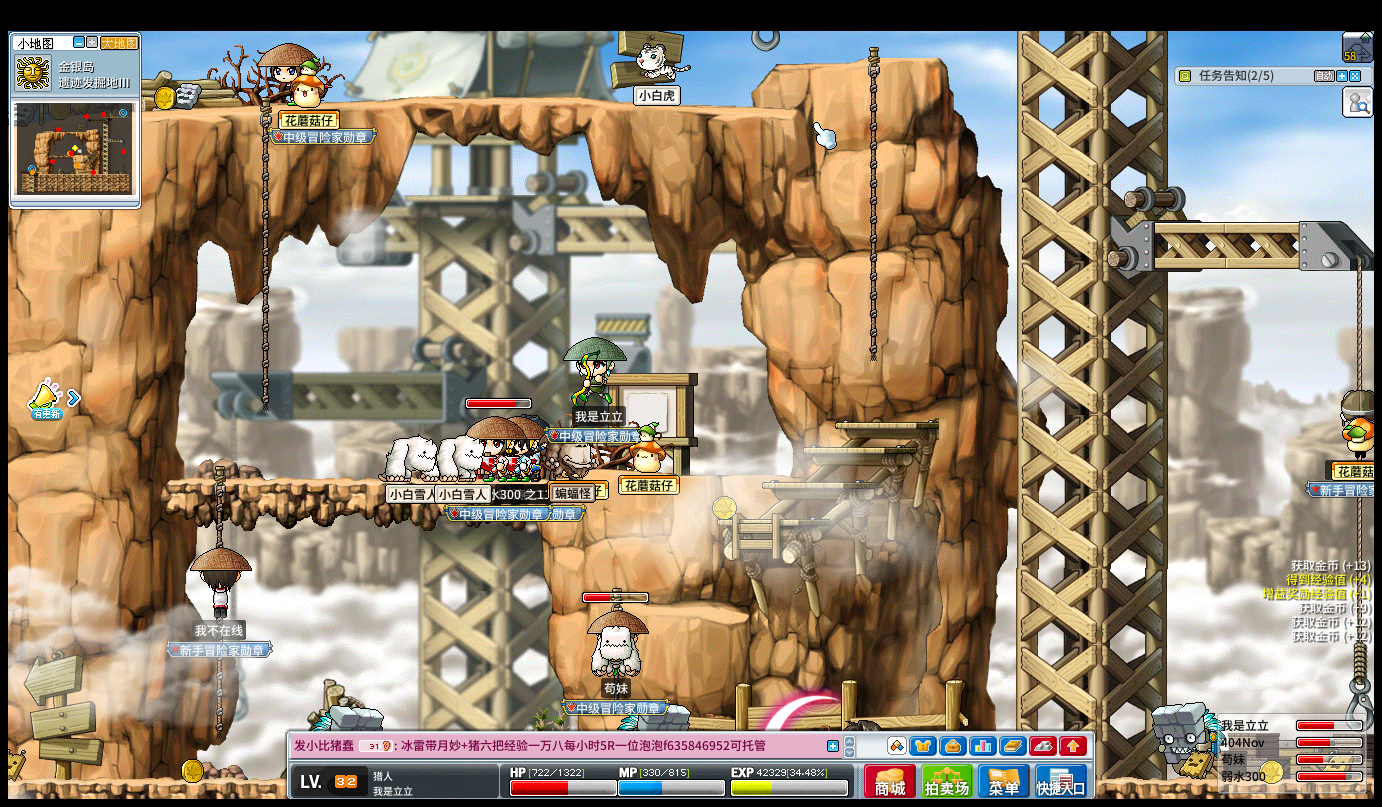floor: (142, 94, 802, 119), (165, 477, 567, 488), (767, 53, 947, 71), (1153, 219, 1348, 234), (647, 602, 750, 622), (711, 517, 830, 526), (801, 446, 916, 455), (833, 420, 940, 429), (762, 480, 879, 488)
monster: (1151, 701, 1223, 778)
rope: (867, 43, 880, 265), (867, 52, 878, 209), (1353, 261, 1364, 385), (867, 249, 877, 358), (212, 463, 225, 545), (262, 299, 271, 396), (212, 662, 222, 743), (261, 366, 272, 418)
